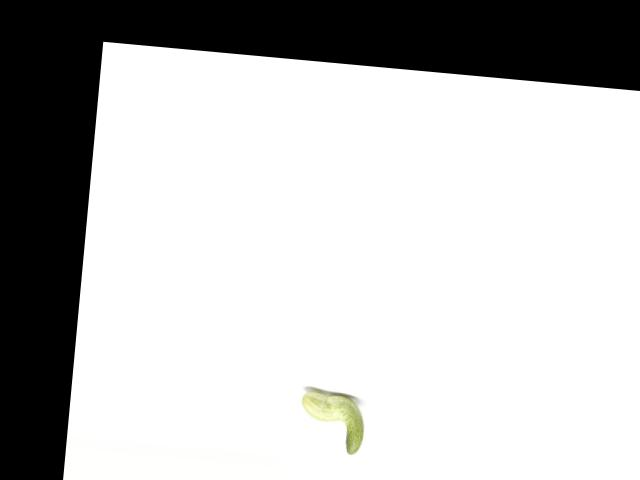cucumber: (297, 389, 367, 455)
